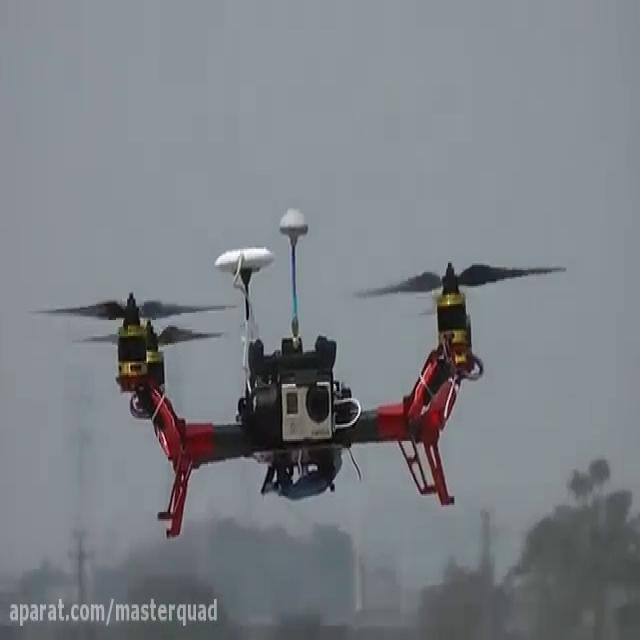drone: (24, 203, 572, 542)
